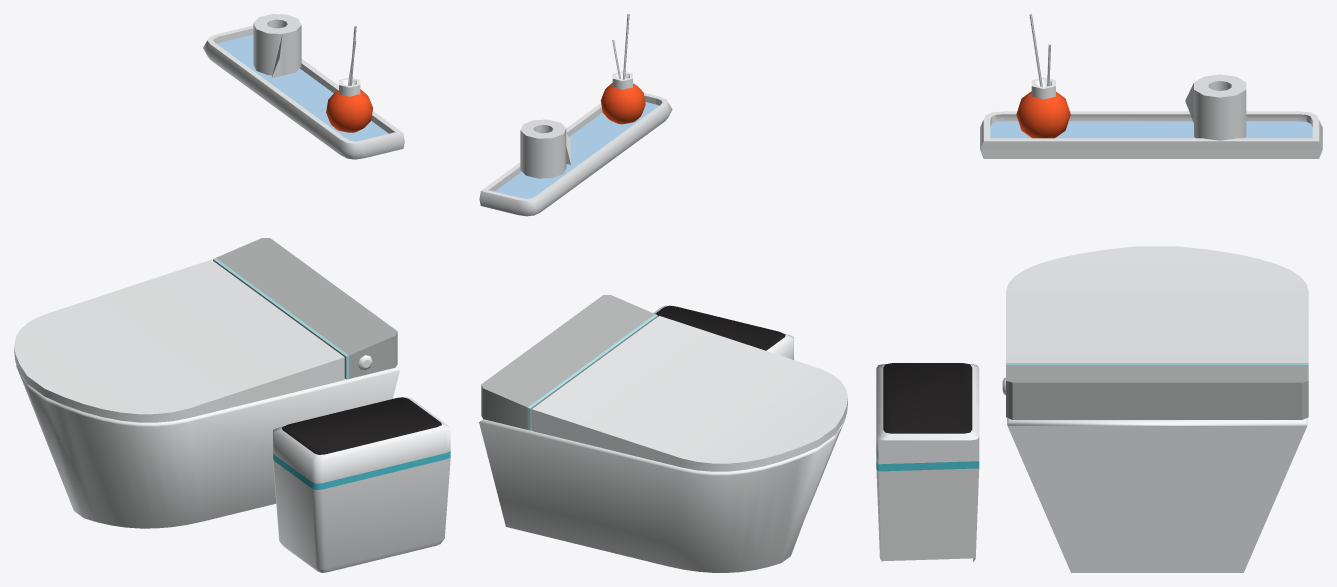
Rendered from M_BRmatong02.FBX.
3 renders of one model, left to right at view 1: azimuth 30°, elevation 25°; view 2: azimuth 150°, elevation 25°; view 3: azimuth 270°, elevation 25°, orthographic. The views are drawn at different scales.
Parts seen in each view (by area): view 1: M_BRmatong02_01, M_BRmatong02_04, M_BRmatong02_03, M_BRmatong02_02; view 2: M_BRmatong02_01, M_BRmatong02_04, M_BRmatong02_03, M_BRmatong02_02; view 3: M_BRmatong02_01, M_BRmatong02_04, M_BRmatong02_03, M_BRmatong02_02.
Boxes of the visible parts, box(x1,y1,x2,y2) form: M_BRmatong02_01: box(14, 25, 450, 572); M_BRmatong02_04: box(253, 14, 441, 454); M_BRmatong02_03: box(217, 34, 388, 141); M_BRmatong02_02: box(213, 258, 450, 489); M_BRmatong02_01: box(479, 93, 847, 572); M_BRmatong02_04: box(520, 14, 785, 350); M_BRmatong02_03: box(495, 83, 658, 198); M_BRmatong02_02: box(527, 314, 793, 430); M_BRmatong02_01: box(876, 111, 1322, 572); M_BRmatong02_04: box(883, 14, 1246, 433); M_BRmatong02_03: box(990, 91, 1312, 138); M_BRmatong02_02: box(876, 364, 1308, 471).
Bounding box in the file's own units: 1.19 × 1.81 × 1.36.
